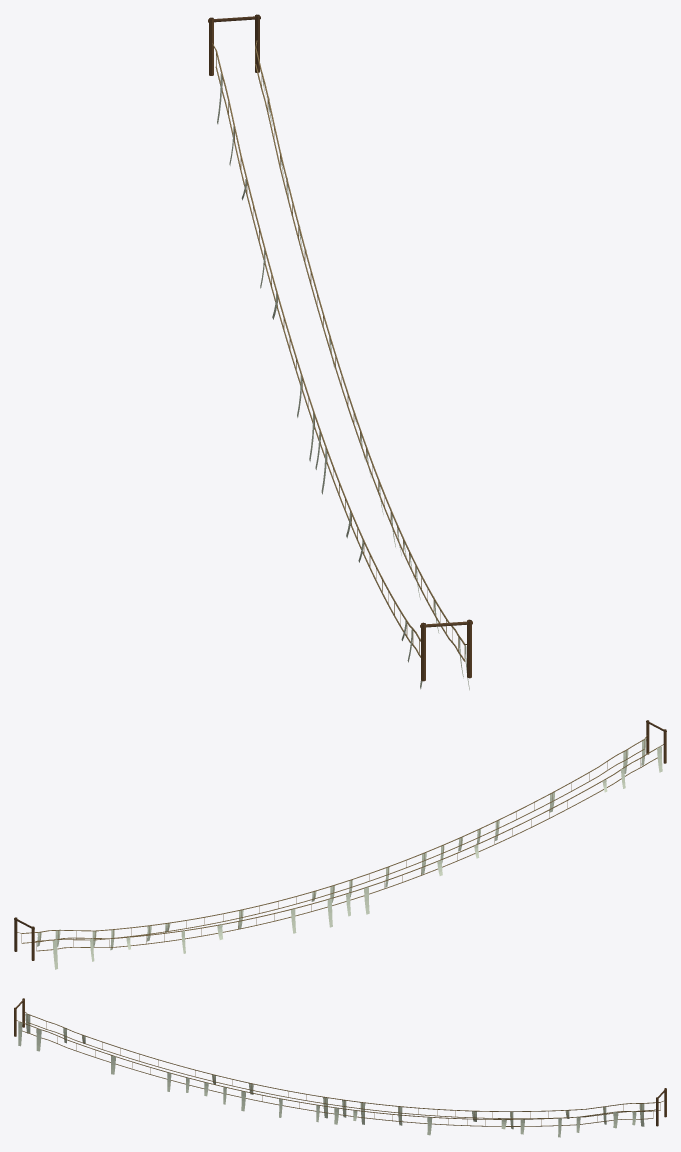
File: SM_Bridge_16_17_Rails.fbx
3 renders of one model, top to bottom at view 1: azimuth 30°, elevation 25°; view 2: azimuth 150°, elevation 25°; view 3: azimuth 270°, elevation 25°, orthographic. The views are drawn at different scales.
Visible parts, largest first — view 1: SM_Bridge_16_17_Rails; view 2: SM_Bridge_16_17_Rails; view 3: SM_Bridge_16_17_Rails.
Part boxes in pixels (box(x1,y1,x2,y2)): SM_Bridge_16_17_Rails: box(208, 14, 472, 690); SM_Bridge_16_17_Rails: box(14, 720, 666, 969); SM_Bridge_16_17_Rails: box(14, 998, 666, 1137).
Bounding box in the file's own units: 32.93 × 11.4 × 78.61.
